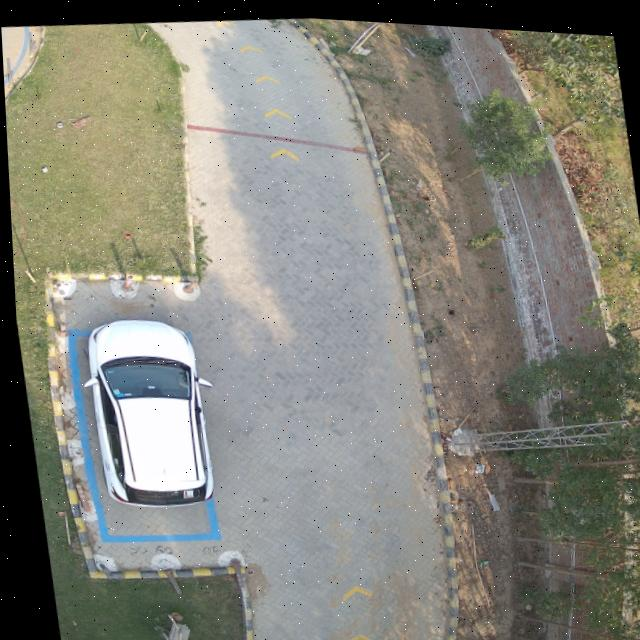car: (78, 318, 207, 505)
